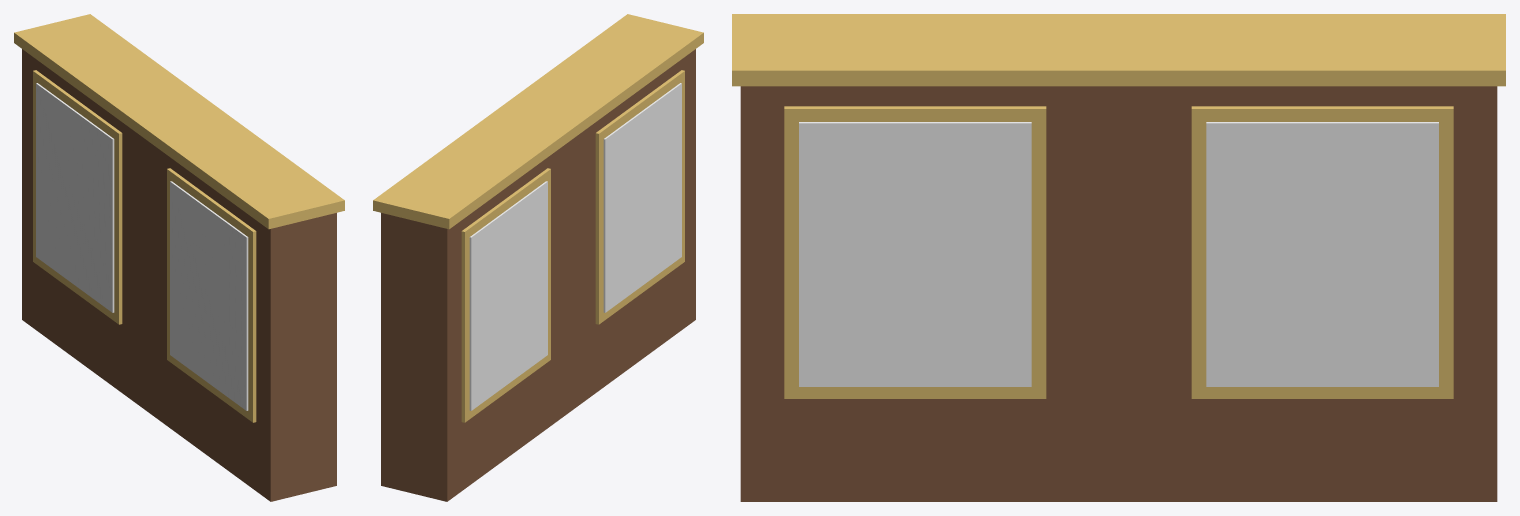
File: SM_LobbyPartition.fbx
3 renders of one model, left to right at view 1: azimuth 30°, elevation 25°; view 2: azimuth 150°, elevation 25°; view 3: azimuth 270°, elevation 25°, orthographic. The views are drawn at different scales.
Parts seen in each view (by area): view 1: SM_LobbyPartition; view 2: SM_LobbyPartition; view 3: SM_LobbyPartition.
Boxes of the visible parts, bbox=[...] form: SM_LobbyPartition: bbox=[14, 14, 344, 501]; SM_LobbyPartition: bbox=[373, 14, 703, 501]; SM_LobbyPartition: bbox=[732, 14, 1505, 501].
Bounding box in the file's own units: 46 × 165 × 266.
